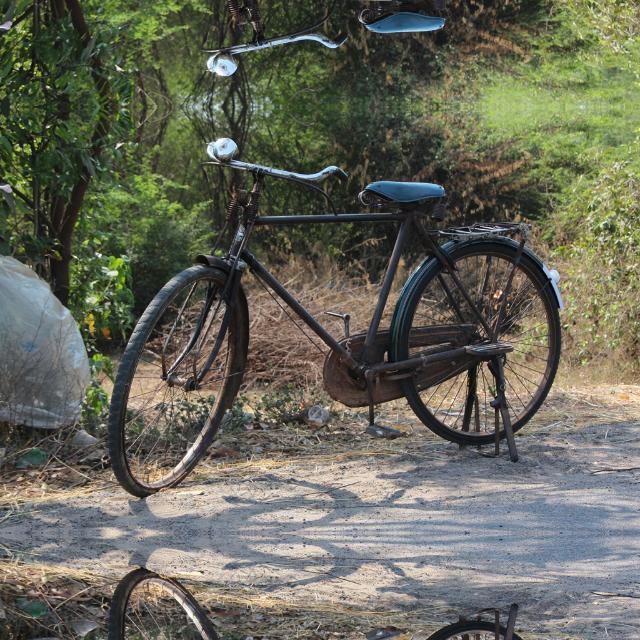obstacle: (97, 129, 628, 511), (97, 554, 628, 640), (97, 0, 628, 83)
